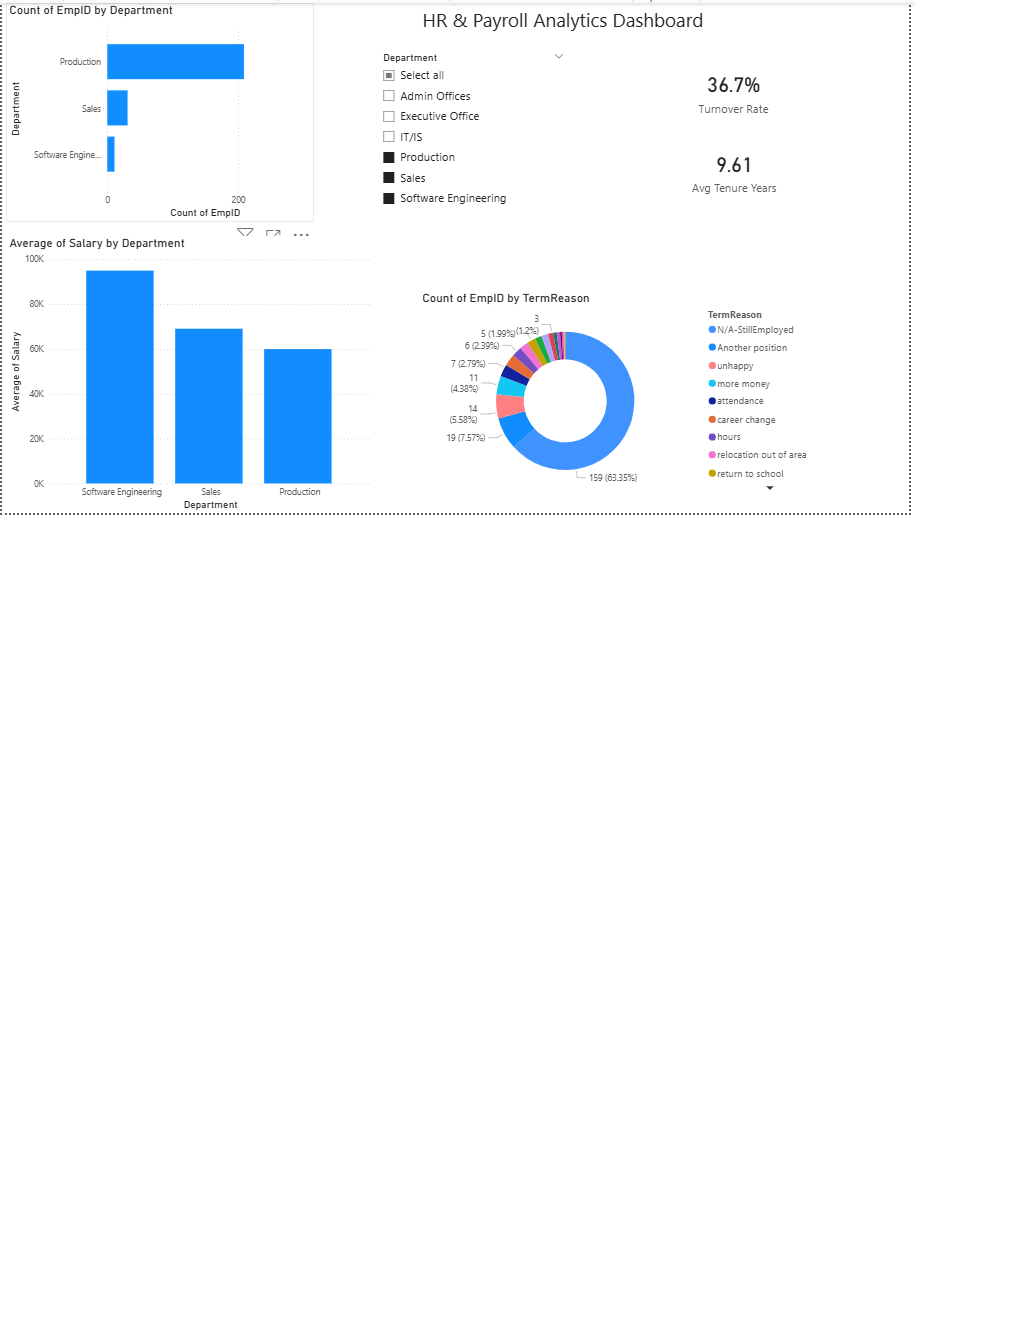

The page's visual inventory and layout, read from the dashboard file:
{"tool":"powerbi","page":{"name":"Page 1","canvas":[1280,720],"ordinal":0},"visuals":[{"type":"clusteredBarChart","fields":{"Category":["HRDataset_cleaned.Department"],"Y":["CountNonNull(HRDataset_cleaned.EmpID)"]},"box":[5.3,0,435,308.9],"z":0},{"type":"clusteredColumnChart","fields":{"Category":["HRDataset_cleaned.Department"],"Y":["Avg(HRDataset_cleaned.Salary)"]},"box":[5.3,328.4,520.2,392.3],"z":1000},{"type":"donutChart","fields":{"Category":["HRDataset_cleaned.TermReason"],"Y":["CountNonNull(HRDataset_cleaned.EmpID)"]},"box":[589.4,406.5,585.9,291.2],"z":2000},{"type":"slicer","fields":{"Values":["HRDataset_cleaned.Department"]},"box":[525.5,63.9,280.5,280.5],"z":3000},{"type":"card","fields":{"Values":["HRDataset_cleaned.Turnover Rate"]},"box":[921.4,63.9,221.9,122.5],"z":3001},{"type":"card","fields":{"Values":["HRDataset_cleaned.Avg Tenure Years"]},"box":[924.9,186.4,218.4,101.2],"z":3002},{"type":"textbox","box":[589.4,0,431.4,63.9],"z":3003}]}

Visuals, with their boxes on the page's 1280x720 design canvas (x1, y1, x2, y2). These are canvas units, not pixel positions in the 1024x1320 screenshot, which may show the page scaled, cropped or inside an application window:
clusteredBarChart - HRDataset_cleaned.Department x CountNonNull(HRDataset_cleaned.EmpID): <bbox>5, 0, 440, 309</bbox>
clusteredColumnChart - HRDataset_cleaned.Department x Avg(HRDataset_cleaned.Salary): <bbox>5, 328, 526, 721</bbox>
donutChart - HRDataset_cleaned.TermReason x CountNonNull(HRDataset_cleaned.EmpID): <bbox>589, 406, 1175, 698</bbox>
slicer - HRDataset_cleaned.Department: <bbox>526, 64, 806, 344</bbox>
card - HRDataset_cleaned.Turnover Rate: <bbox>921, 64, 1143, 186</bbox>
card - HRDataset_cleaned.Avg Tenure Years: <bbox>925, 186, 1143, 288</bbox>
textbox: <bbox>589, 0, 1021, 64</bbox>
